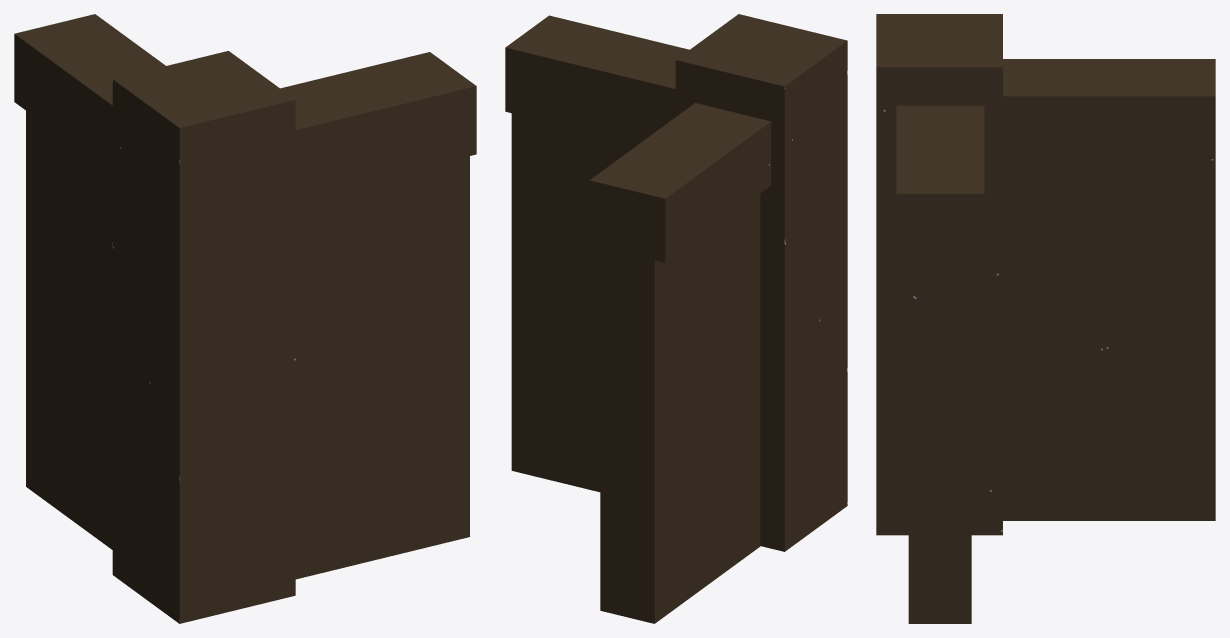
Rendered from Fence Corner.fbx.
3 views of the same model, side by side, from view 1: azimuth 30°, elevation 25°; view 2: azimuth 150°, elevation 25°; view 3: azimuth 270°, elevation 25° (orthographic). The views are drawn at different scales.
Visible parts, largest first — view 1: Fence Corner; view 2: Fence Corner; view 3: Fence Corner.
Part boxes in pixels (left/top/right/bottom): Fence Corner: left=14, top=14, right=476, bottom=623; Fence Corner: left=505, top=14, right=847, bottom=623; Fence Corner: left=876, top=14, right=1215, bottom=623.
Size of the model in its own units: 42.6 by 65.72 by 43.11.
